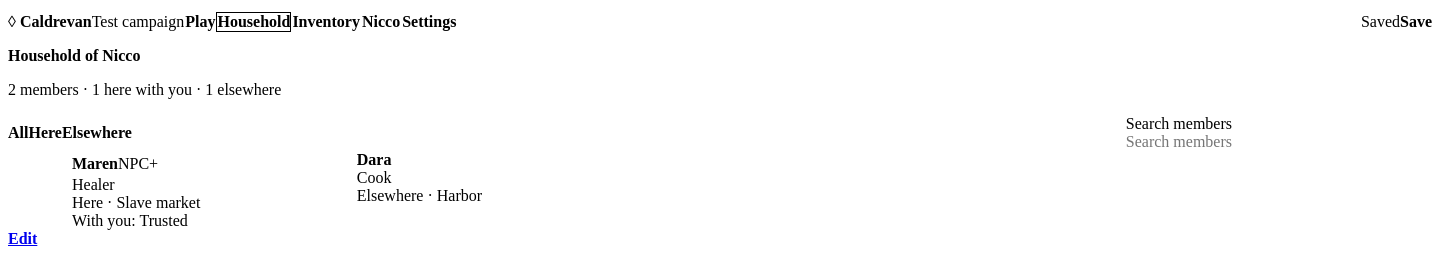
Household page › filters Here/Elsewhere and searches without sending any request
Expected: the heading "Household of Nicco" is shown, [8,47,140,64]
Click the button "Elsewhere".
click(97, 133)  # box [62,124,132,142]
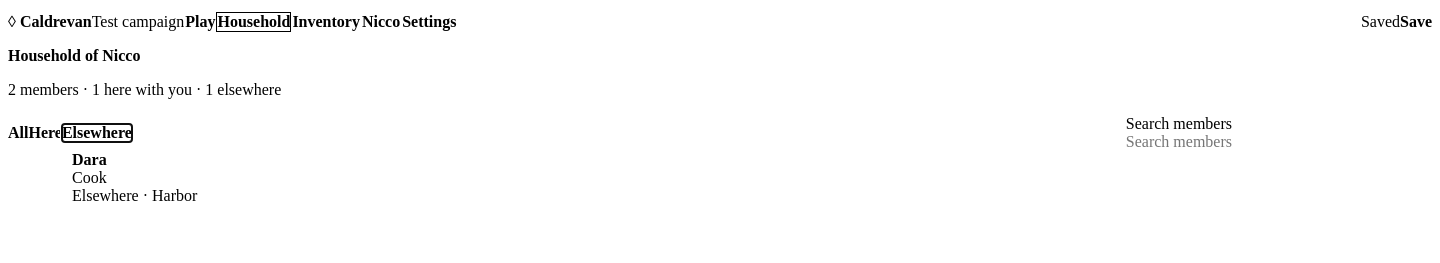
Expected: the button with aria-label "View Dara" is shown, [8,151,293,205]
Click the button "All".
click(18, 133)  # box [8,124,28,142]
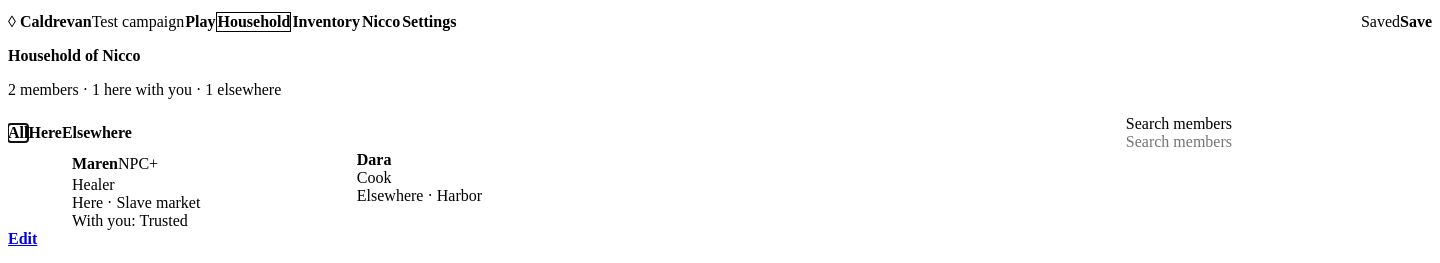
Type "healer" into the search field labelled "Search members".
click(1279, 142); type("healer")  # box [1126,133,1432,151]
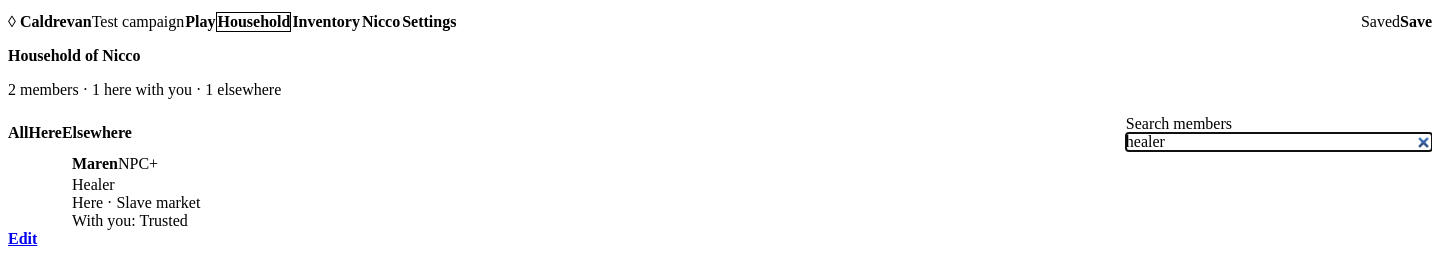
Expected: the button with aria-label "View Maren" is shown, [8,151,293,230]
Replace the text in the search field labelled "Search members" with "zzz" at (1279, 142), box [1126,133,1432,151]
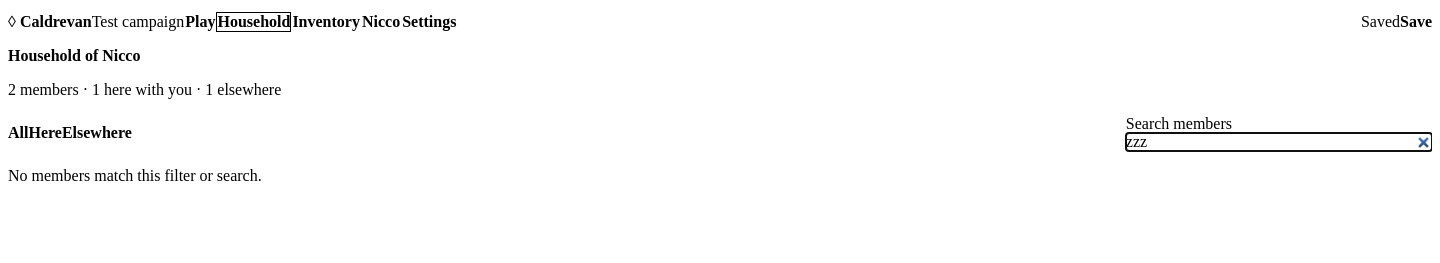
Expected: the text "No members match this filter or search." is shown, [8,167,262,184]
